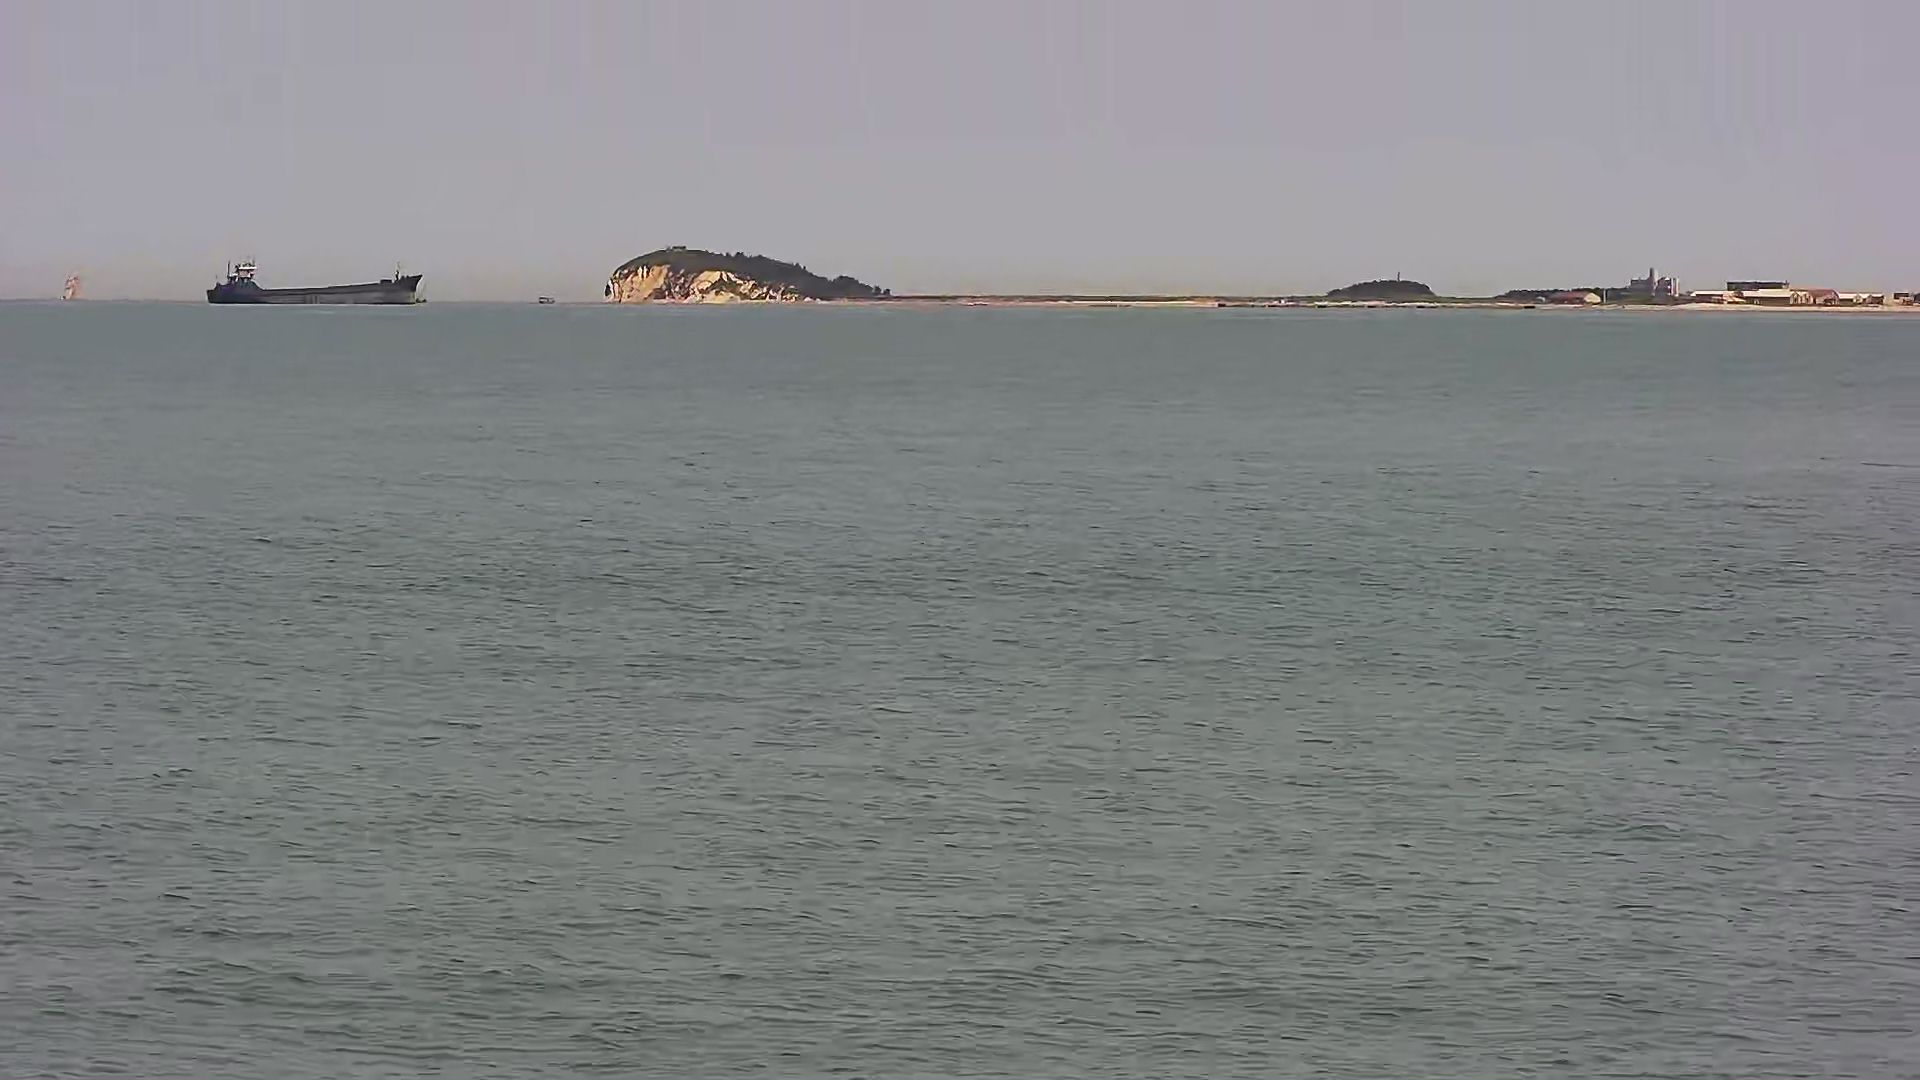rock: (603, 243, 899, 309)
ship: (204, 257, 425, 309)
